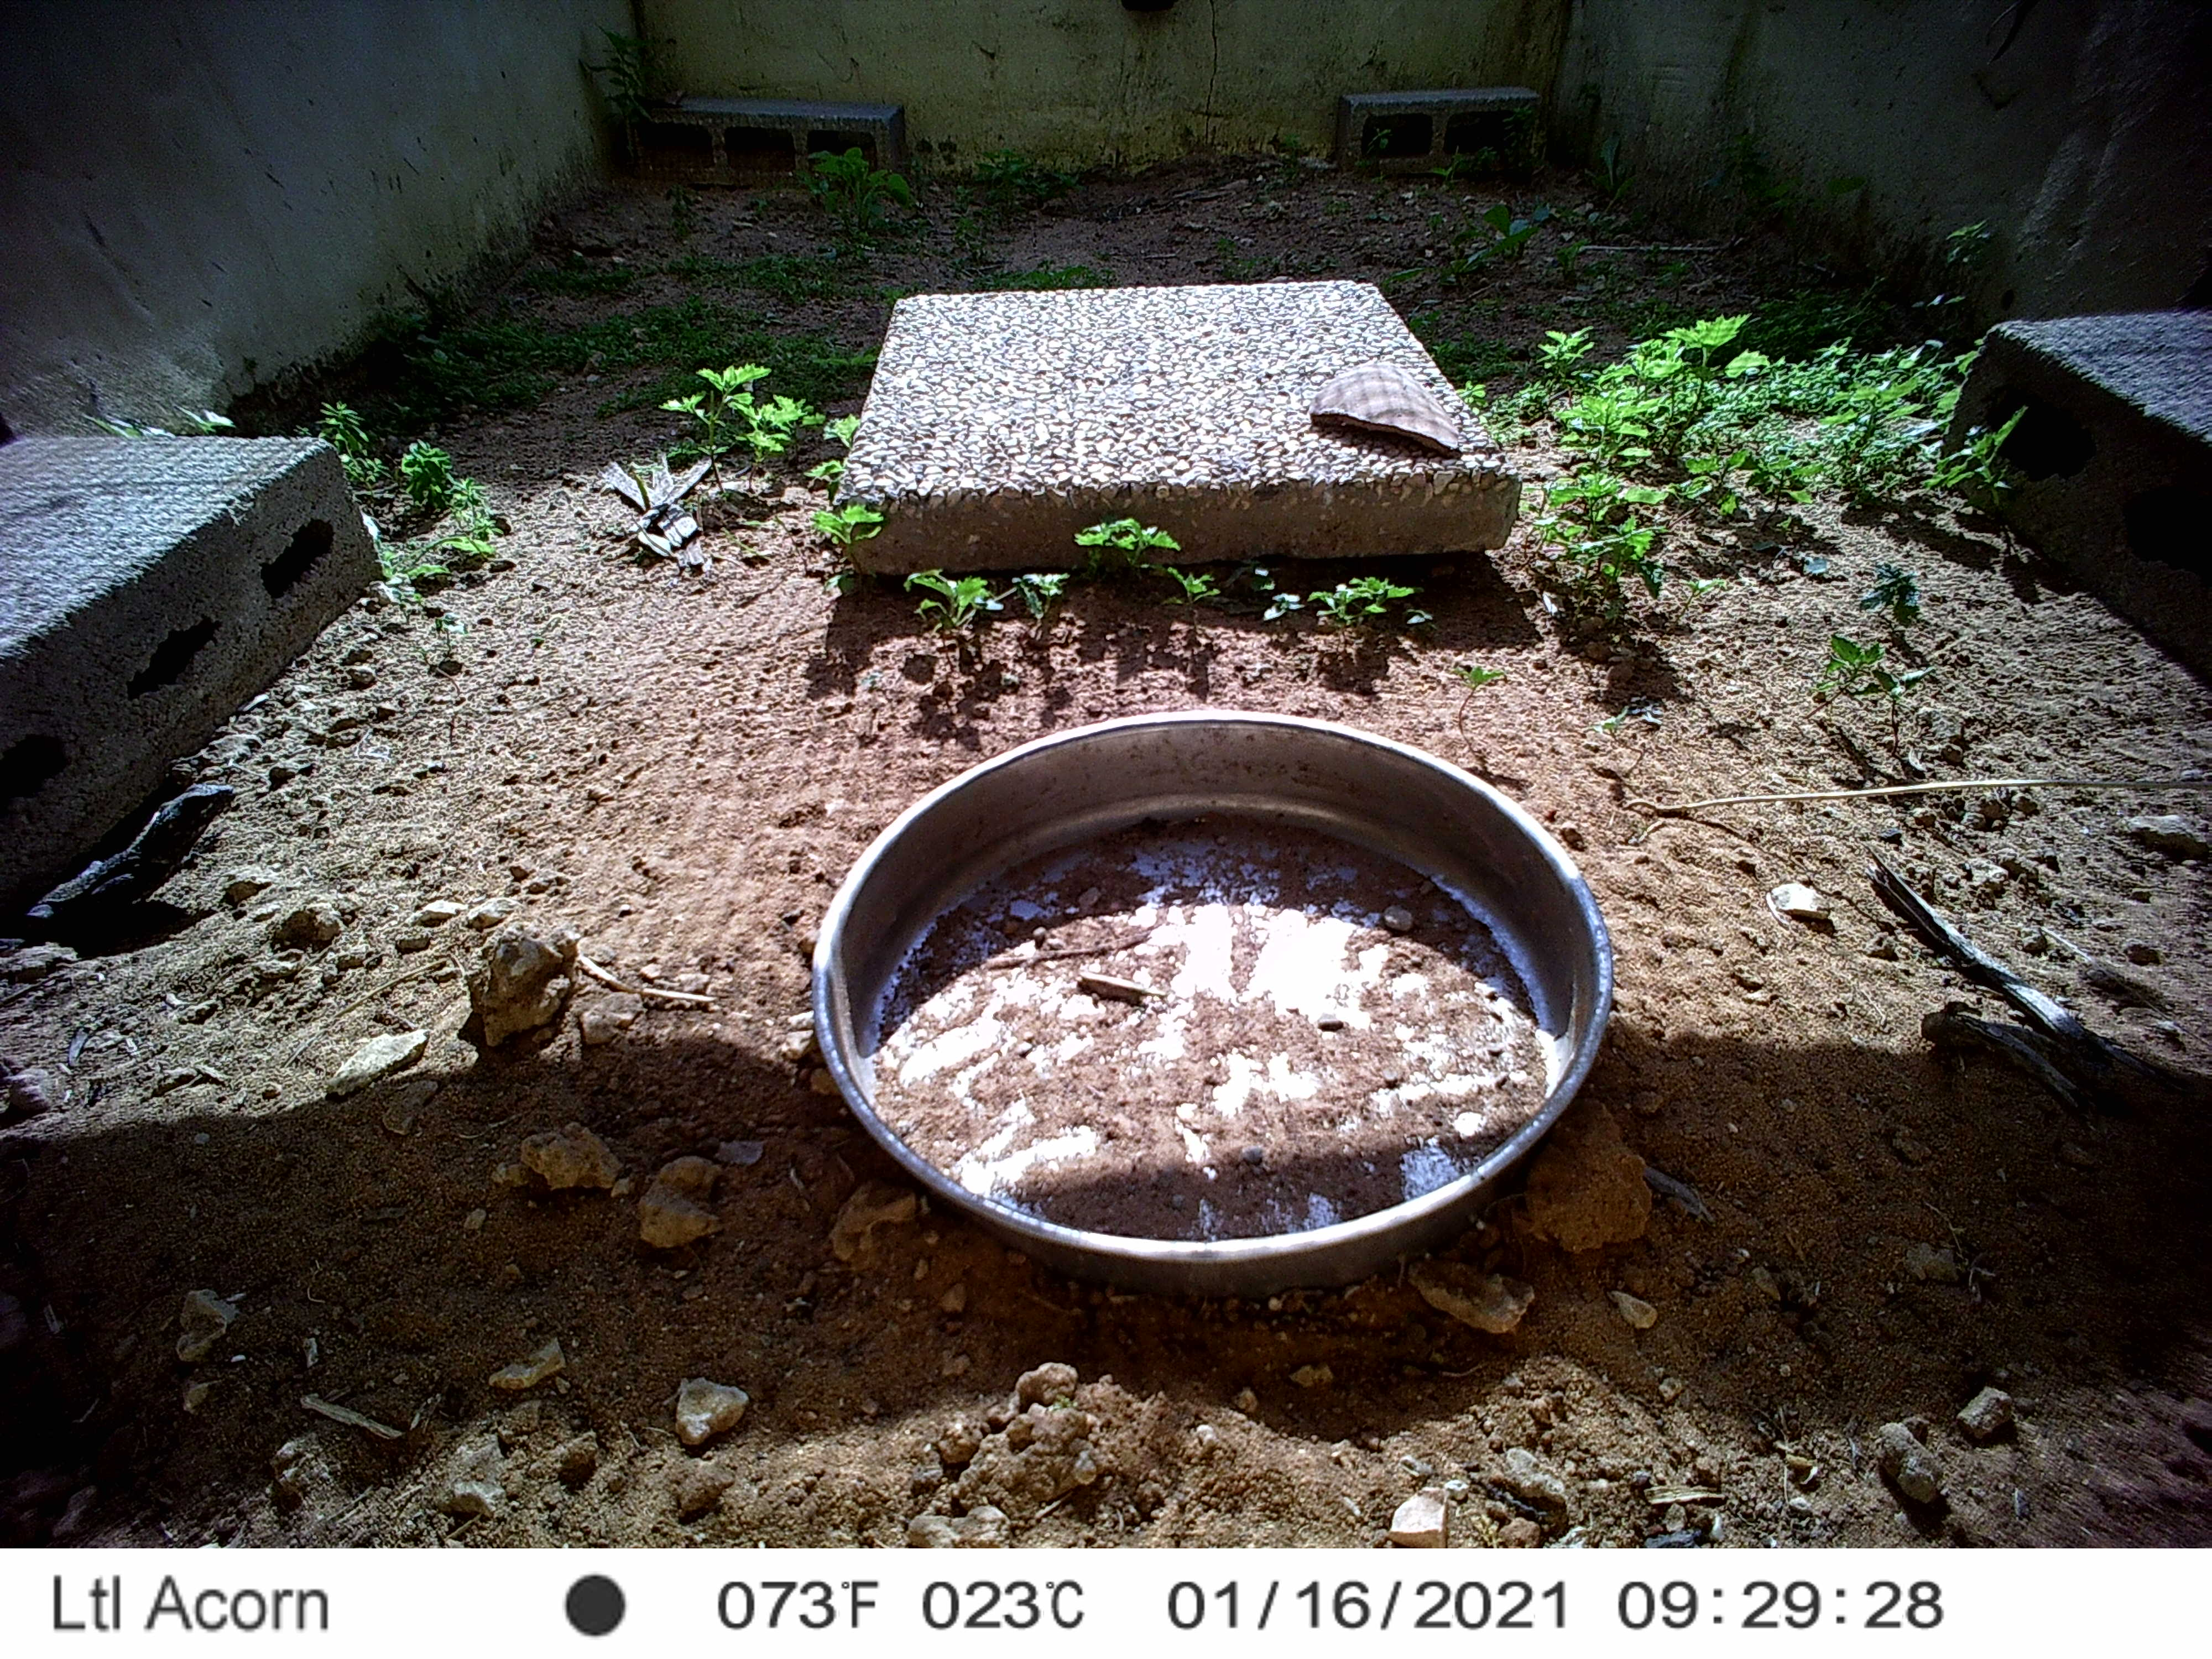lizard: (9, 772, 240, 943)
